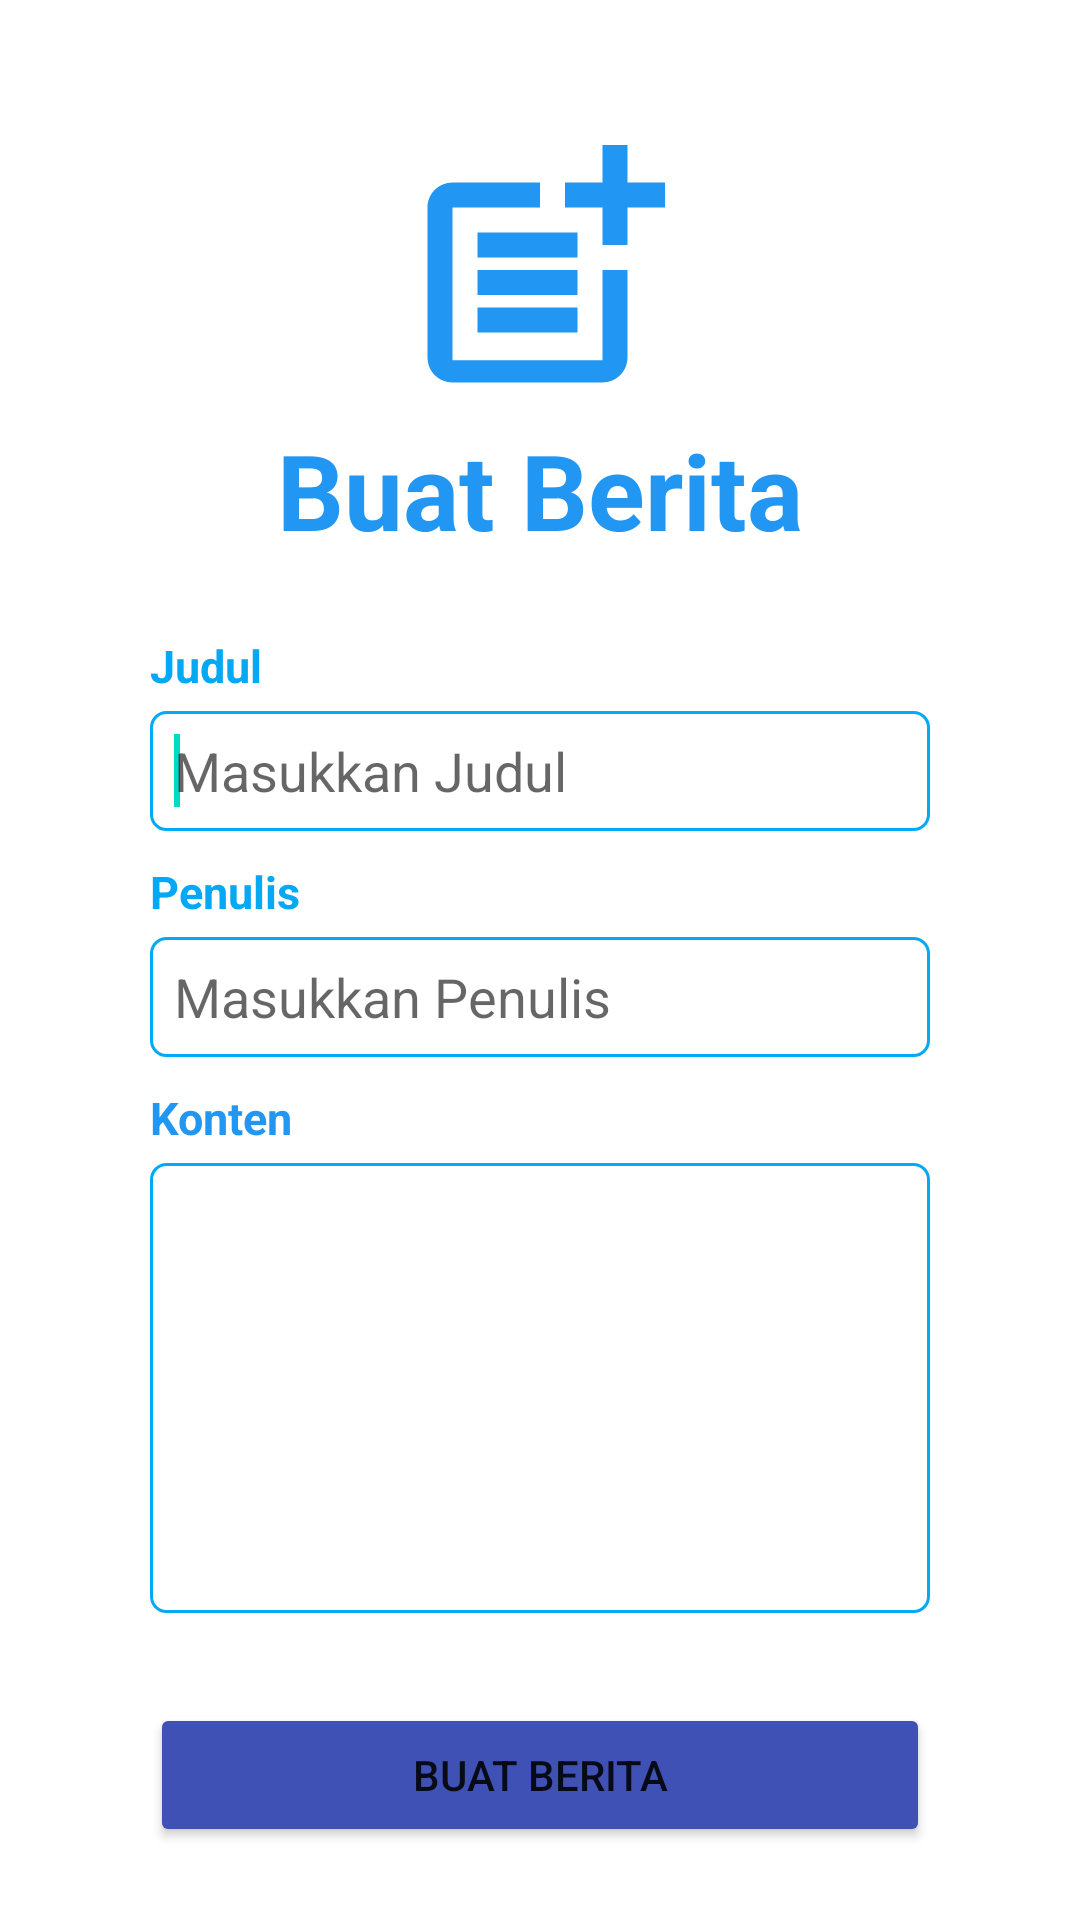

Icon bounding boxes for this 1080*1920 phone screenshot, format (x1, y1, x2, y2):
addnews: (427, 145, 665, 383)
